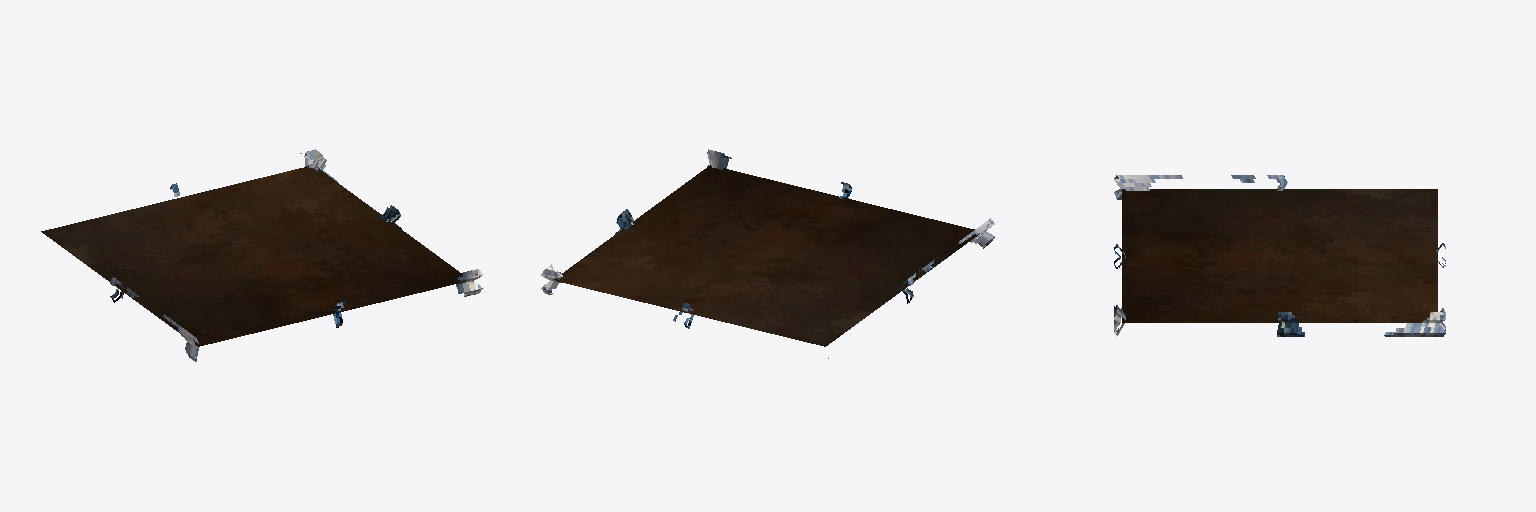
The picture shows the model from 3 angles: view 1: azimuth 30°, elevation 25°; view 2: azimuth 150°, elevation 25°; view 3: azimuth 270°, elevation 25°; orthographic projection.
Parts seen in each view (by area): view 1: Plane; view 2: Plane; view 3: Plane.
Boxes of the visible parts, x1,y1,x2,y2 form: Plane: [41, 149, 482, 361]; Plane: [541, 149, 994, 358]; Plane: [1114, 175, 1445, 336].
Size of the model in its own units: 2 by 0.1656 by 2.
1 materials, 1 textured.